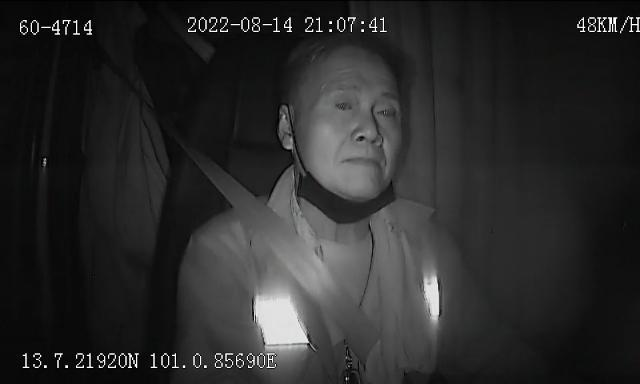SafeDriving: (328, 89, 361, 120), (370, 95, 403, 125)
Seatbelt: (194, 155, 382, 372)
